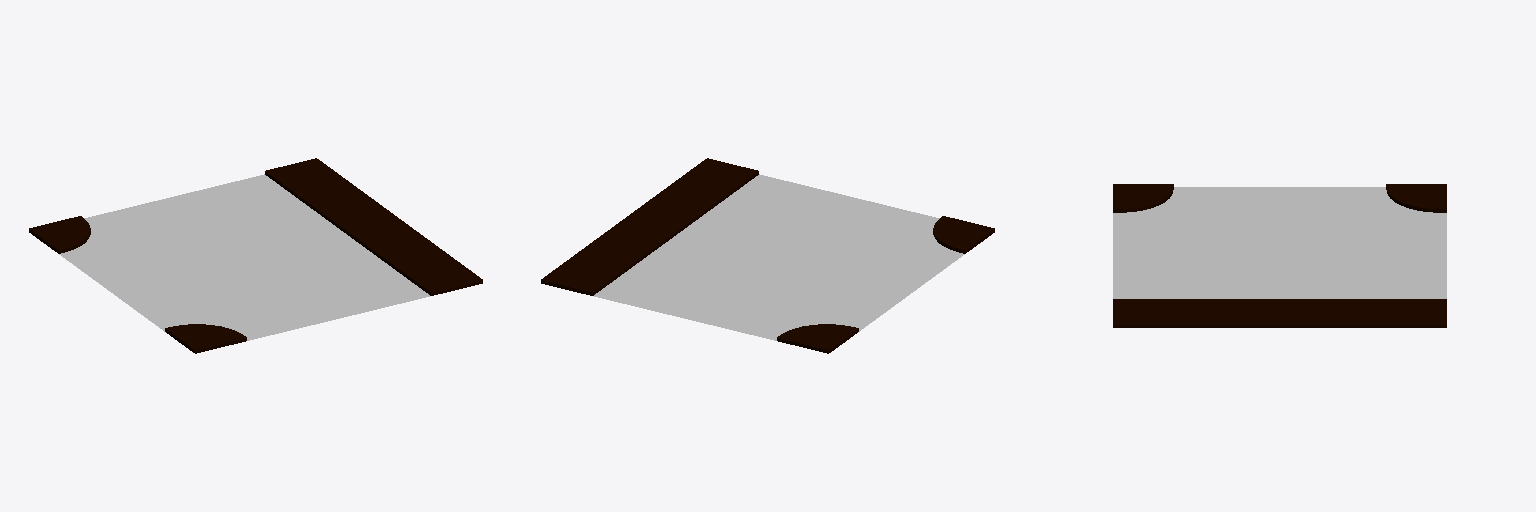
File: 3way_new 2.obj
3 views of the same model, side by side, from view 1: azimuth 30°, elevation 25°; view 2: azimuth 150°, elevation 25°; view 3: azimuth 270°, elevation 25° (orthographic).
Visible parts, largest first — view 1: 3way_low; view 2: 3way_low; view 3: 3way_low.
Boxes of the visible parts, <box> form: 3way_low: <box>29,158,482,353</box>; 3way_low: <box>541,158,994,353</box>; 3way_low: <box>1113,184,1446,327</box>.
Size of the model in its own units: 2 by 0.0233 by 2.